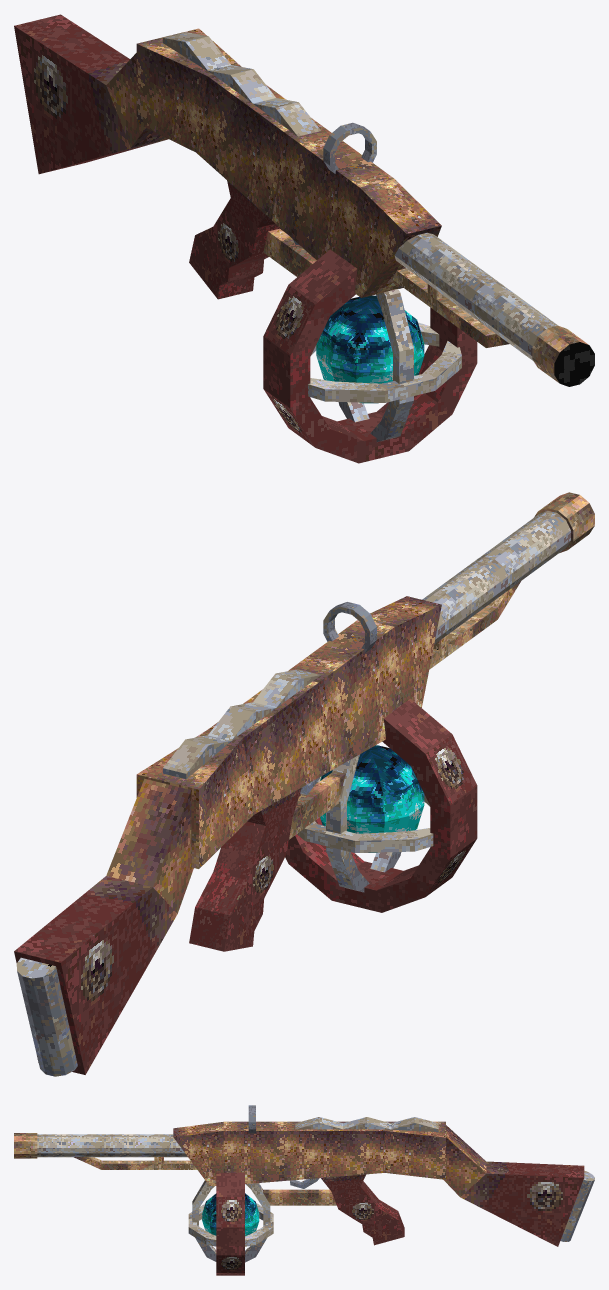
The model's file is Overheat_gun2.fbx.
3 renders of one model, top to bottom at view 1: azimuth 30°, elevation 25°; view 2: azimuth 150°, elevation 25°; view 3: azimuth 270°, elevation 25°, orthographic. The views are drawn at different scales.
Visible parts, largest first — view 1: mesh, tube, mesh_1, cylinder, mesh_2, sphere, mesh_4, mesh_5, tube_5, tube_4, mesh_6, mesh_3 (+1 smaller); view 2: mesh, mesh_1, tube, mesh_4, cylinder, sphere, cylinder_1, mesh_5, mesh_2, tube_2, tube_1, mesh_3 (+2 smaller); view 3: mesh, mesh_1, cylinder, tube, mesh_4, mesh_2, mesh_5, mesh_3, mesh_6, sphere, cylinder_1, tube_1 (+3 smaller).
Boxes of the visible parts, box(x1,y1,x2,y2) form: mesh: box(136, 28, 394, 263); tube: box(263, 249, 477, 463); mesh_1: box(14, 14, 168, 174); cylinder: box(394, 232, 594, 386); mesh_2: box(350, 179, 441, 297); sphere: box(316, 295, 424, 403); mesh_4: box(189, 180, 286, 299); mesh_5: box(163, 32, 320, 136); tube_5: box(308, 341, 461, 402); tube_4: box(370, 289, 413, 441); mesh_6: box(392, 268, 509, 347); mesh_3: box(263, 228, 316, 276); mesh: box(136, 620, 403, 868); mesh_1: box(14, 778, 193, 1074); tube: box(285, 698, 477, 912); mesh_4: box(189, 787, 301, 951); cylinder: box(422, 492, 594, 644); sphere: box(320, 745, 424, 852); cylinder_1: box(16, 957, 77, 1076); mesh_5: box(163, 669, 320, 778); mesh_2: box(370, 596, 441, 707); tube_2: box(297, 821, 433, 853); tube_1: box(326, 754, 369, 892); mesh_3: box(289, 771, 345, 839); mesh: box(223, 1121, 445, 1183); mesh_1: box(443, 1125, 584, 1246); cylinder: box(14, 1133, 187, 1158); tube: box(216, 1172, 244, 1275); mesh_4: box(321, 1174, 404, 1245); mesh_2: box(173, 1122, 223, 1185); mesh_5: box(295, 1117, 438, 1132); mesh_3: box(263, 1189, 336, 1205); mesh_6: box(73, 1157, 197, 1169); sphere: box(202, 1193, 259, 1235); cylinder_1: box(560, 1170, 594, 1241); tube_1: box(245, 1183, 270, 1262).
Size of the model in its own units: 100 by 156 by 507.
Materials: 5 (5 with a texture image).
